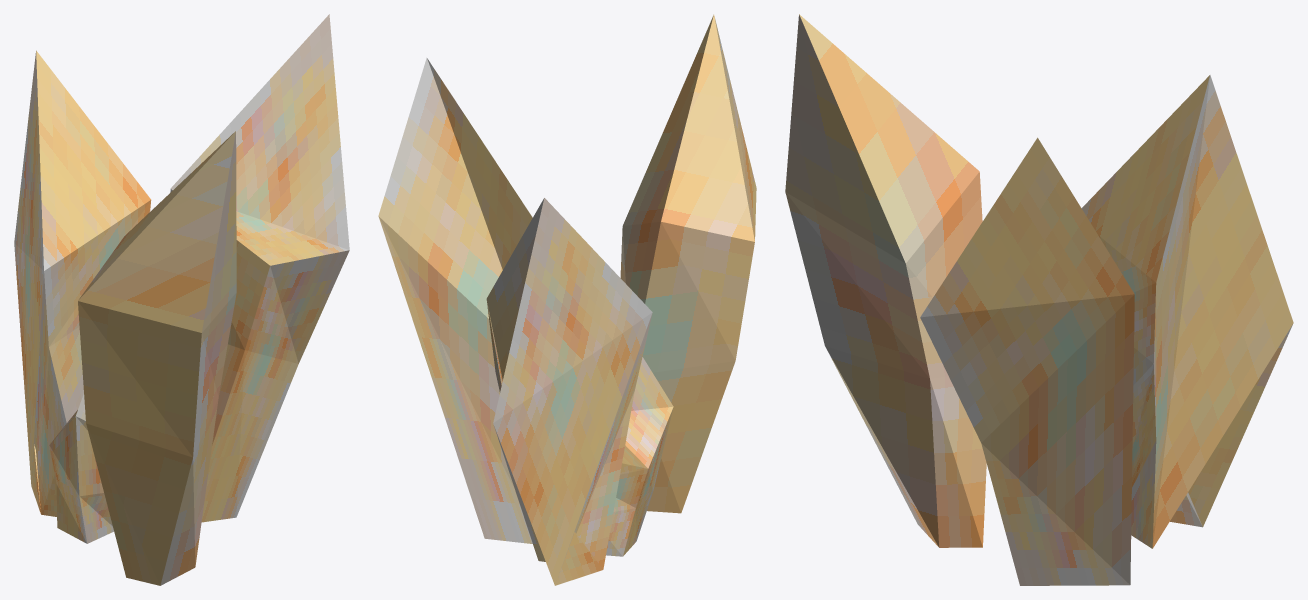
Rendered from solar_crystal.obj.
3 views of the same model, side by side, from view 1: azimuth 30°, elevation 25°; view 2: azimuth 150°, elevation 25°; view 3: azimuth 270°, elevation 25° (orthographic). The views are drawn at different scales.
Size of the model in its own units: 0.6588 by 0.992 by 0.8671.
